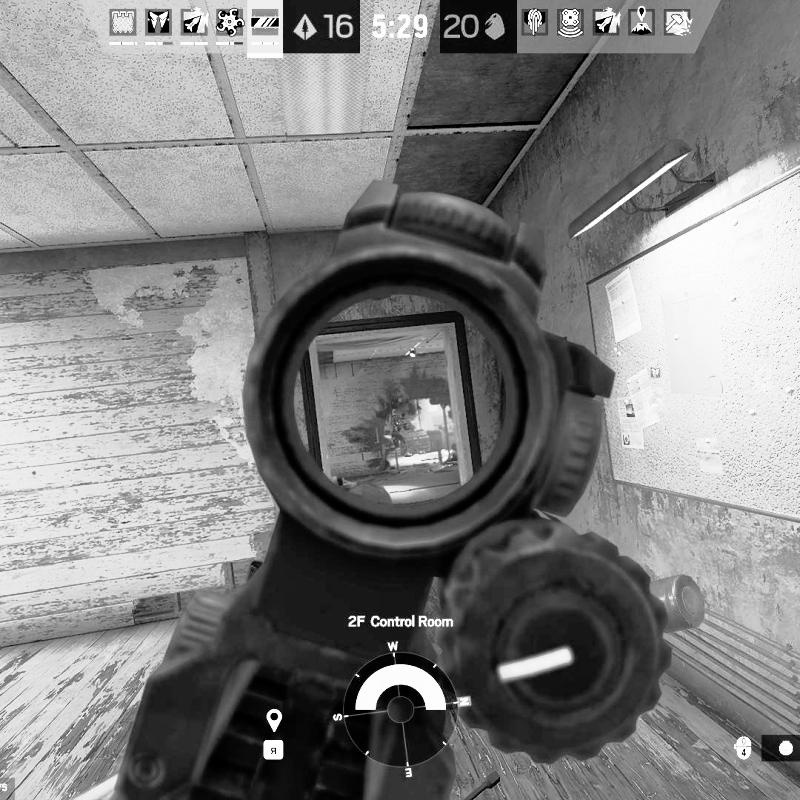Character: (387, 412, 414, 458)
Friend_label: (748, 344, 780, 372), (643, 365, 670, 392)
Head: (400, 412, 406, 420)
